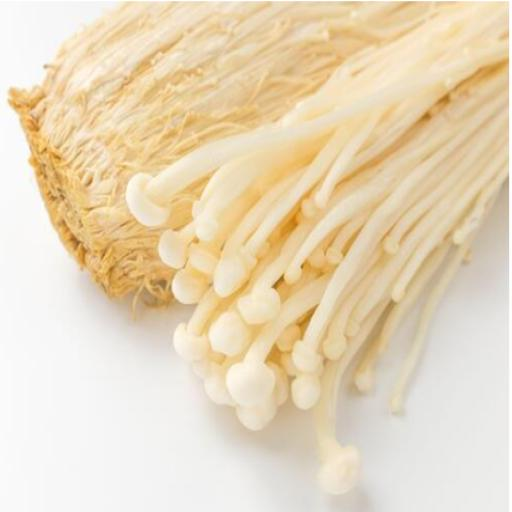Enoki Mushroom: (4, 1, 508, 498)
